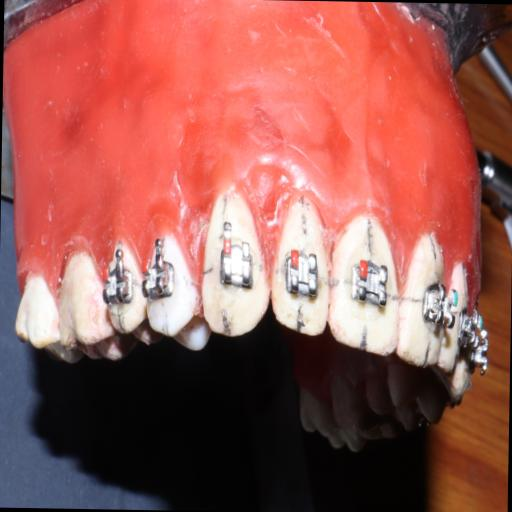incorrect_brace: (217, 236, 254, 294)
